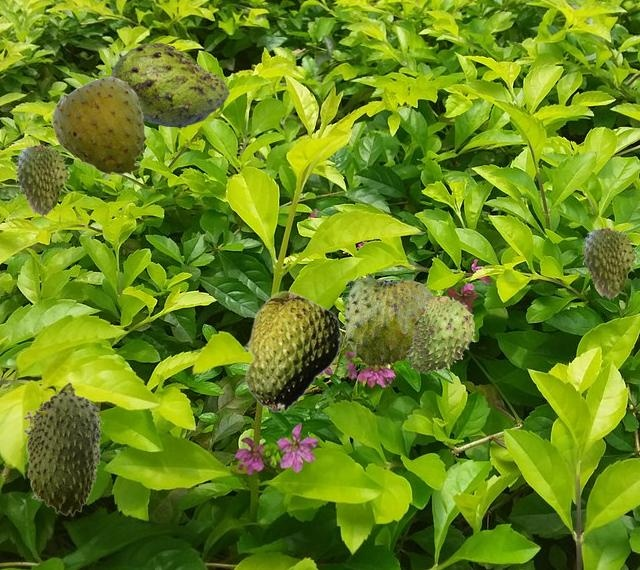guyabano: (243, 290, 341, 413), (23, 381, 103, 515), (110, 42, 228, 127), (50, 76, 146, 176), (341, 272, 434, 366), (405, 296, 474, 373), (13, 144, 71, 216), (580, 227, 638, 299)
